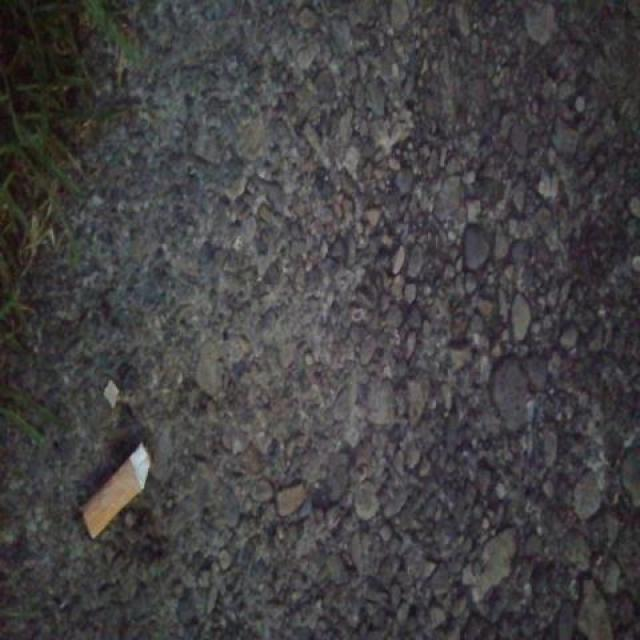non-organic waste: (76, 438, 156, 547)
